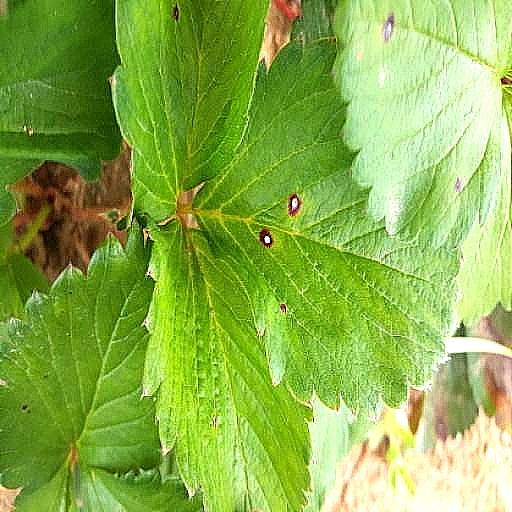Leaf Spot: (191, 90, 462, 482), (140, 0, 316, 297), (0, 17, 164, 295), (330, 262, 511, 511), (109, 283, 269, 511)
